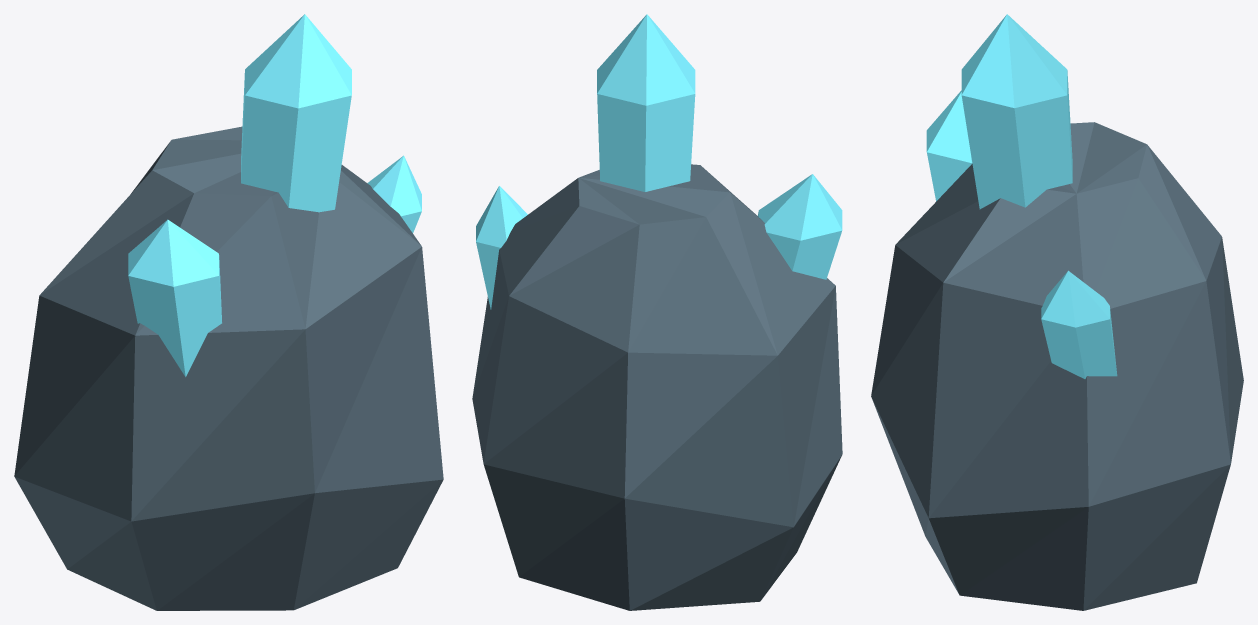
The model's file is ore_crystal.glb.
The picture shows the model from 3 angles, left to right: view 1: azimuth 30°, elevation 25°; view 2: azimuth 150°, elevation 25°; view 3: azimuth 270°, elevation 25°; orthographic projection. The views are drawn at different scales.
Visible parts, largest first — view 1: geometry, crystals; view 2: geometry, crystals; view 3: geometry, crystals.
Part boxes in pixels (x1=…): geometry: x1=14, y1=126, x2=443, y2=610; crystals: x1=128, y1=14, x2=421, y2=376; geometry: x1=472, y1=164, x2=842, y2=610; crystals: x1=476, y1=14, x2=842, y2=309; geometry: x1=871, y1=122, x2=1243, y2=610; crystals: x1=926, y1=14, x2=1117, y2=378.
Size of the model in its own units: 0.7052 by 0.99 by 0.6102.
